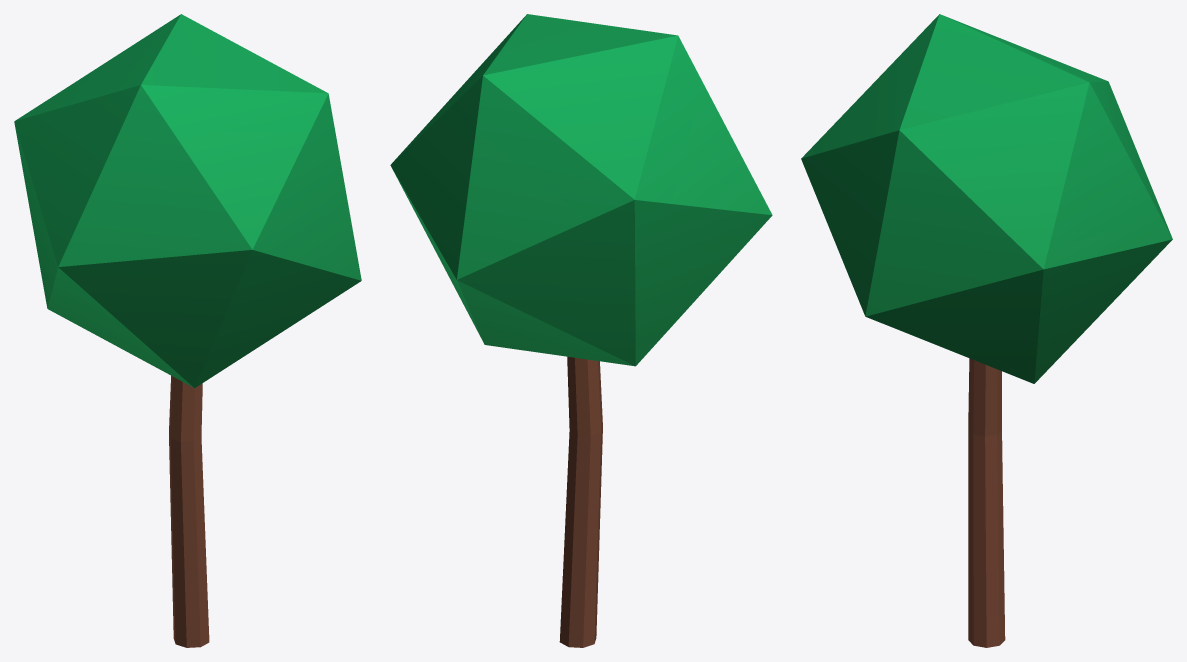
File: Tree_40_gradient_green_vc.fbx
3 views of the same model, side by side, from view 1: azimuth 30°, elevation 25°; view 2: azimuth 150°, elevation 25°; view 3: azimuth 270°, elevation 25° (orthographic). The views are drawn at different scales.
Visible parts, largest first — view 1: Tree_40_gradient_green_vc; view 2: Tree_40_gradient_green_vc; view 3: Tree_40_gradient_green_vc.
Boxes of the visible parts, x1,y1,x2,y2 form: Tree_40_gradient_green_vc: (14, 14, 361, 647); Tree_40_gradient_green_vc: (390, 14, 772, 647); Tree_40_gradient_green_vc: (801, 14, 1172, 647).
Bounding box in the file's own units: 110 × 196 × 112.
